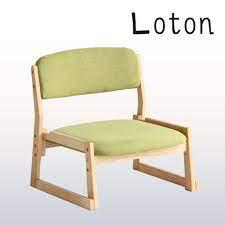chair: (13, 34, 201, 215)
